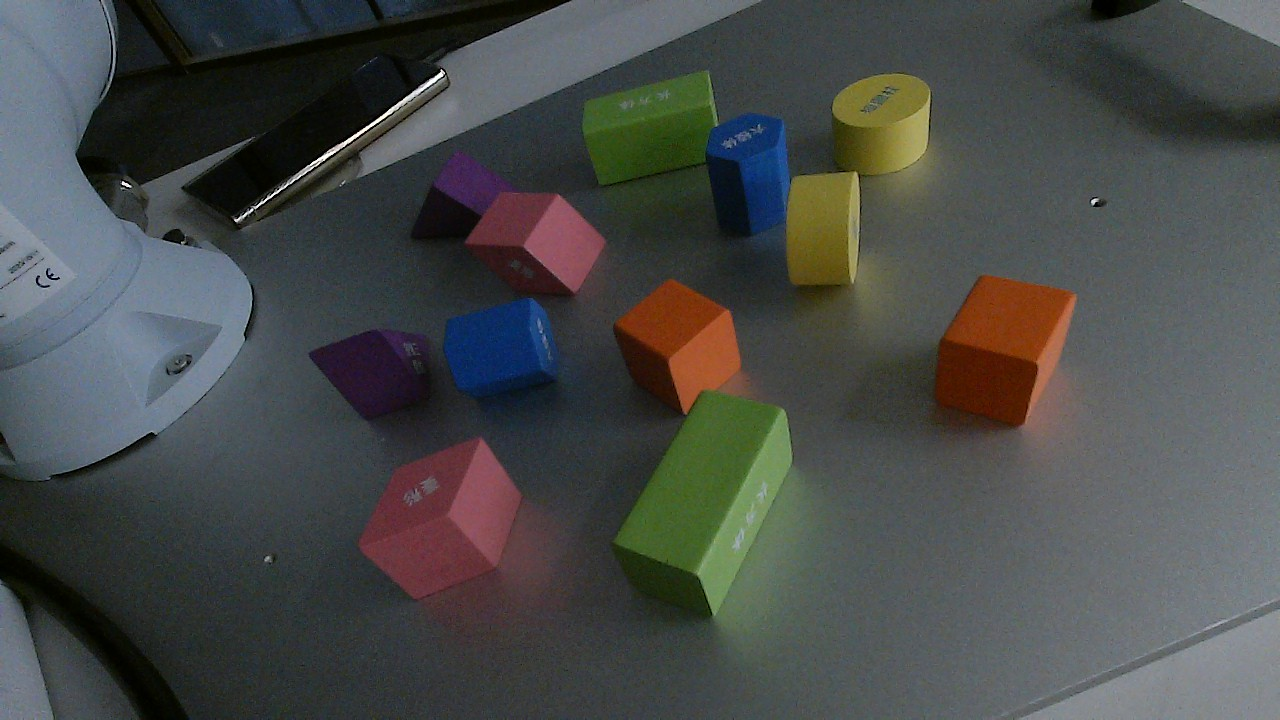circle: (828, 70, 930, 173), (783, 171, 863, 289)
diamond: (357, 433, 524, 601), (467, 186, 607, 296)
hexagon: (440, 296, 562, 398), (707, 110, 792, 239)
rectangle: (611, 388, 794, 618), (579, 68, 719, 188)
square: (932, 272, 1075, 428), (613, 273, 742, 411)
triangle: (307, 328, 432, 420), (406, 146, 519, 245)
